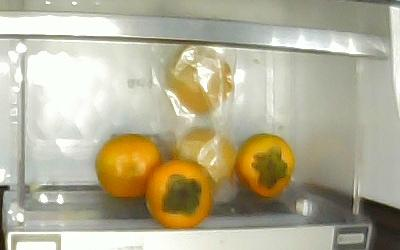persimmon: (145, 160, 214, 228), (94, 133, 163, 199), (234, 133, 296, 199)
persimmon_vinyl: (169, 47, 234, 114), (170, 127, 237, 185)
